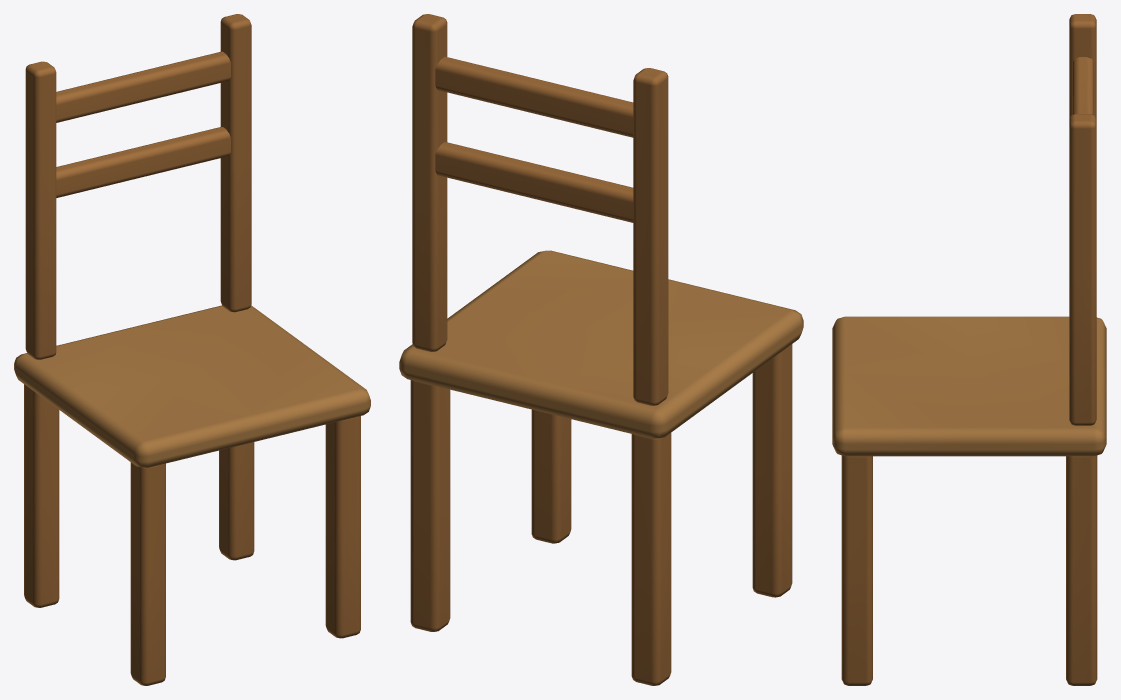
File: furn_chair_wood.glb
3 renders of one model, left to right at view 1: azimuth 30°, elevation 25°; view 2: azimuth 150°, elevation 25°; view 3: azimuth 270°, elevation 25°, orthographic. The views are drawn at different scales.
Visible parts, largest first — view 1: furn_chair_wood_main; view 2: furn_chair_wood_main; view 3: furn_chair_wood_main.
Part boxes in pixels (left/top/right/bottom): furn_chair_wood_main: left=14, top=14, right=370, bottom=685; furn_chair_wood_main: left=399, top=14, right=803, bottom=685; furn_chair_wood_main: left=832, top=14, right=1106, bottom=685.
Bounding box in the file's own units: 0.46 × 1 × 0.44.
